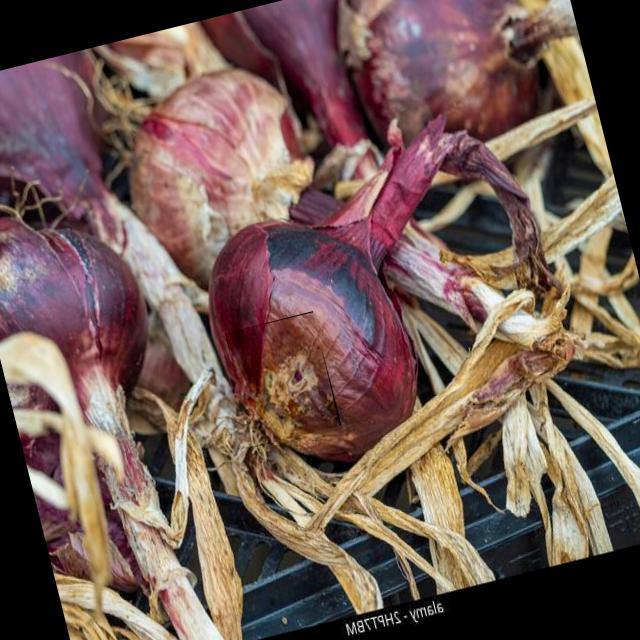rotten: (224, 310, 341, 448)
